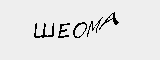А: (98, 10, 118, 29)
Е: (57, 22, 70, 40)
М: (86, 17, 99, 39)
О: (71, 22, 88, 40)
Ш: (32, 22, 55, 38)
